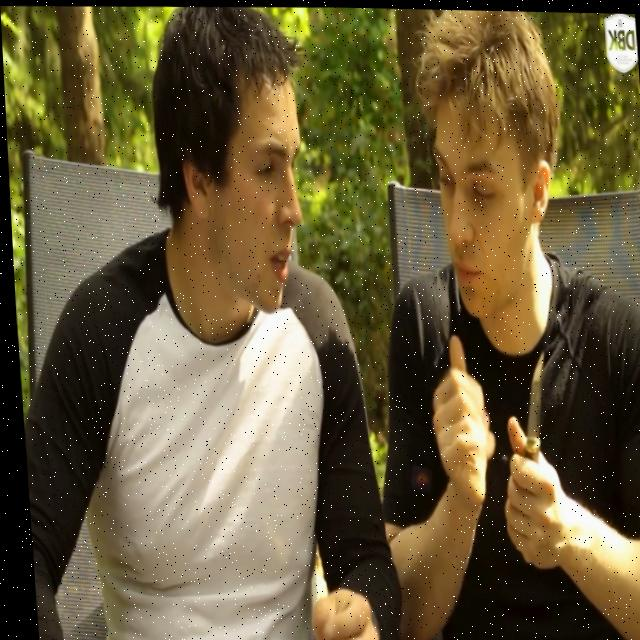knife: (513, 349, 547, 461)
